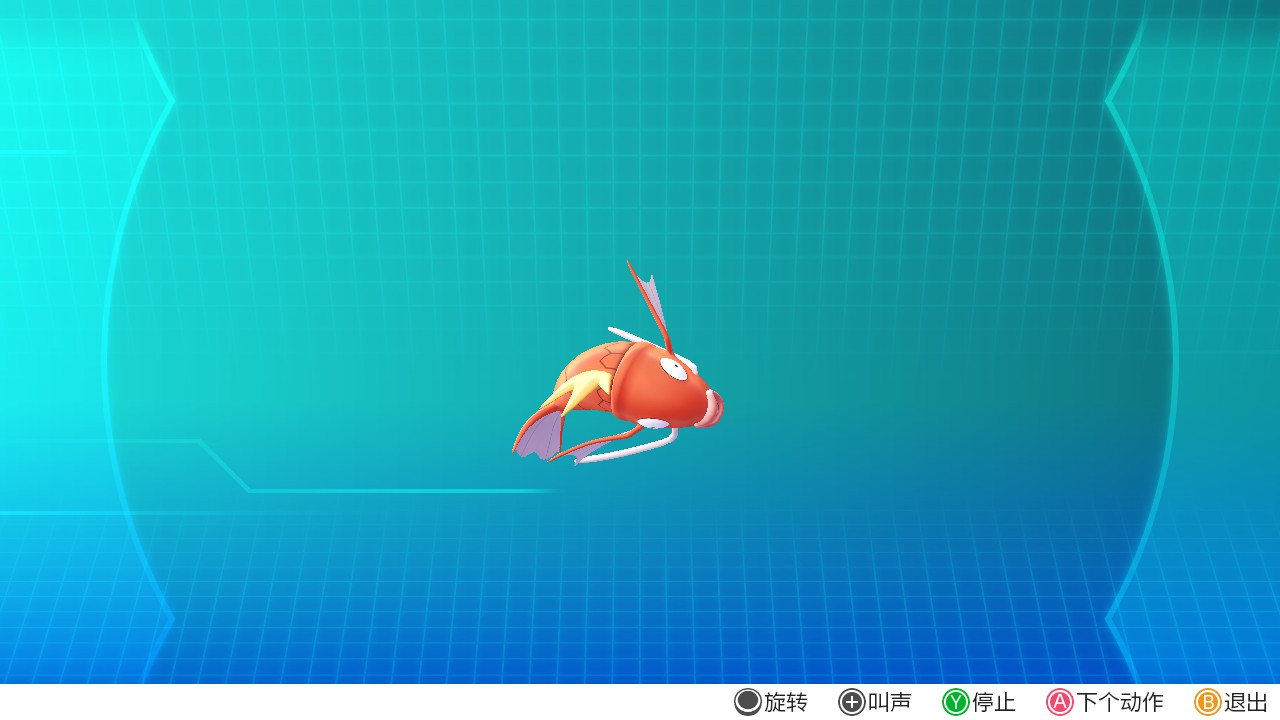Red: (508, 262, 726, 466)
